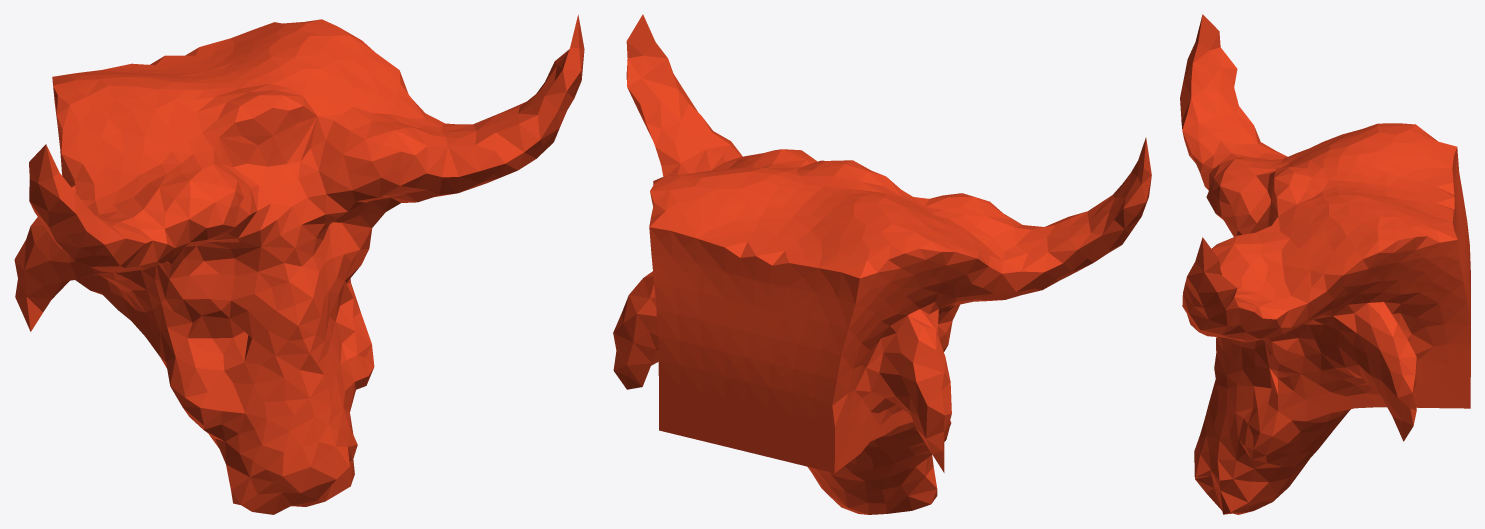
Rendered from bullHead.gltf.
3 renders of one model, left to right at view 1: azimuth 30°, elevation 25°; view 2: azimuth 150°, elevation 25°; view 3: azimuth 270°, elevation 25°, orthographic. The views are drawn at different scales.
Parts seen in each view (by area): view 1: Cube; view 2: Cube; view 3: Cube.
Boxes of the visible parts, x1=… form: Cube: x1=14, y1=14, x2=584, y2=514; Cube: x1=613, y1=14, x2=1151, y2=514; Cube: x1=1180, y1=14, x2=1470, y2=514.
Size of the model in its own units: 2.95 by 2.27 by 1.58.
